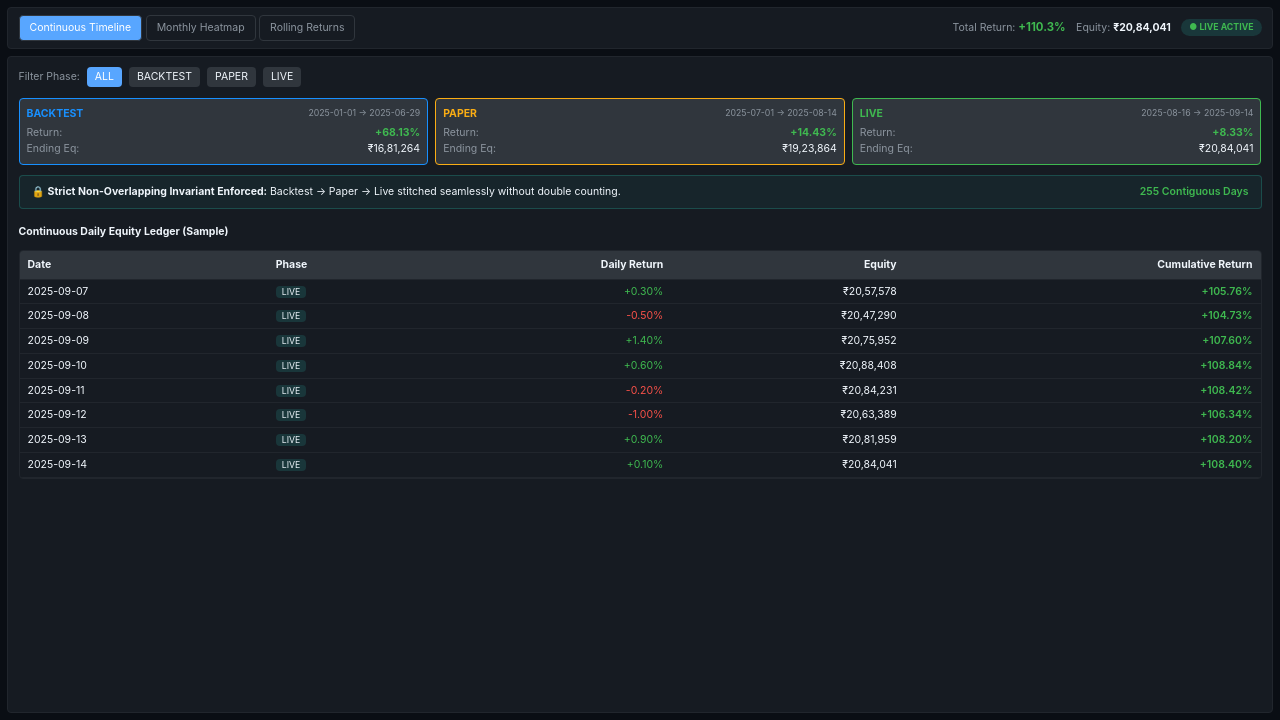
ReturnsTimelineWidget Component › switches to Rolling Returns tab and renders distribution statistics
Click the button with test id "tab-rolling" at (307, 28), box [259,15,356,41]
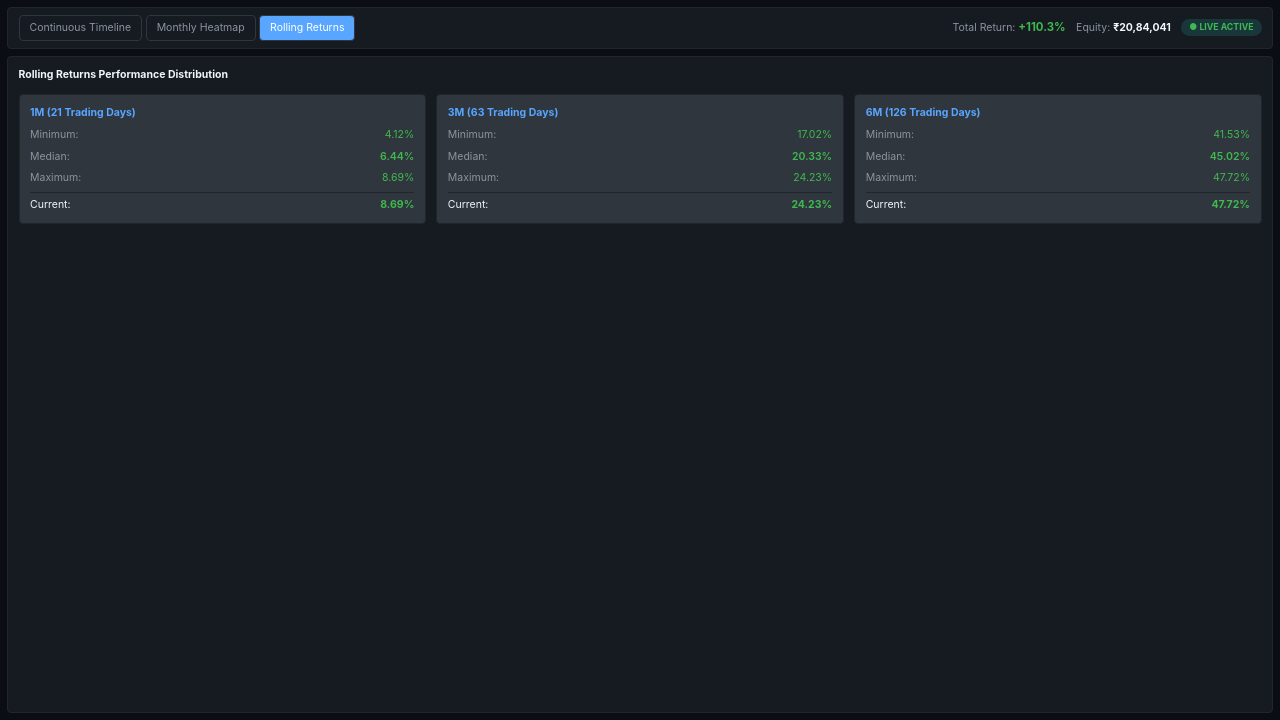
Expected: the text "Rolling Returns Performance Distribution" is shown, [18,68,228,81]
Expected: the text "1M (21 Trading Days)" is shown, [30,106,136,119]
Expected: the text "3M (63 Trading Days)" is shown, [448,106,558,119]
